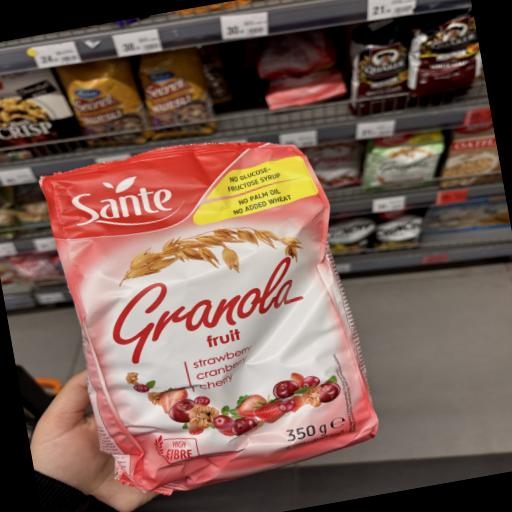granola: (10, 105, 409, 512)
